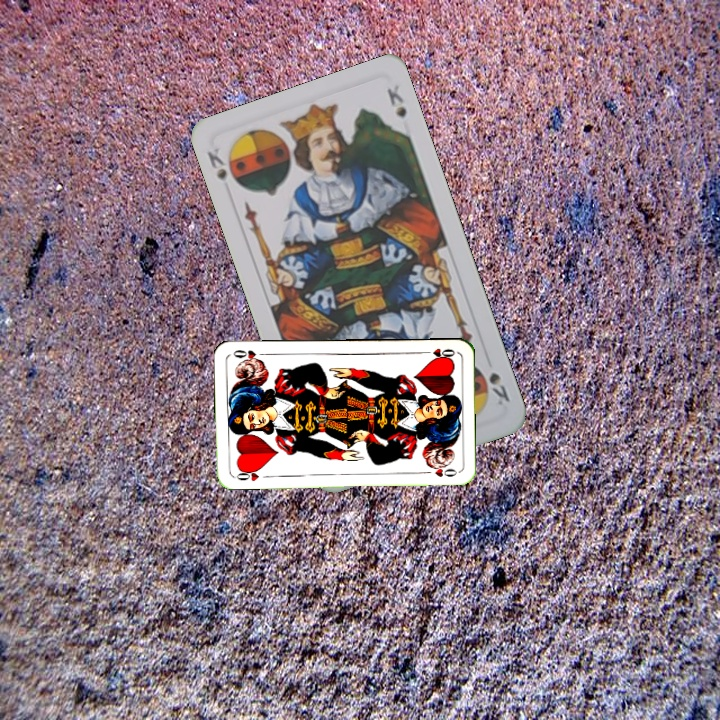HO: (417, 344, 457, 361), (230, 465, 263, 484)
SK: (203, 144, 243, 198), (484, 368, 512, 408)
